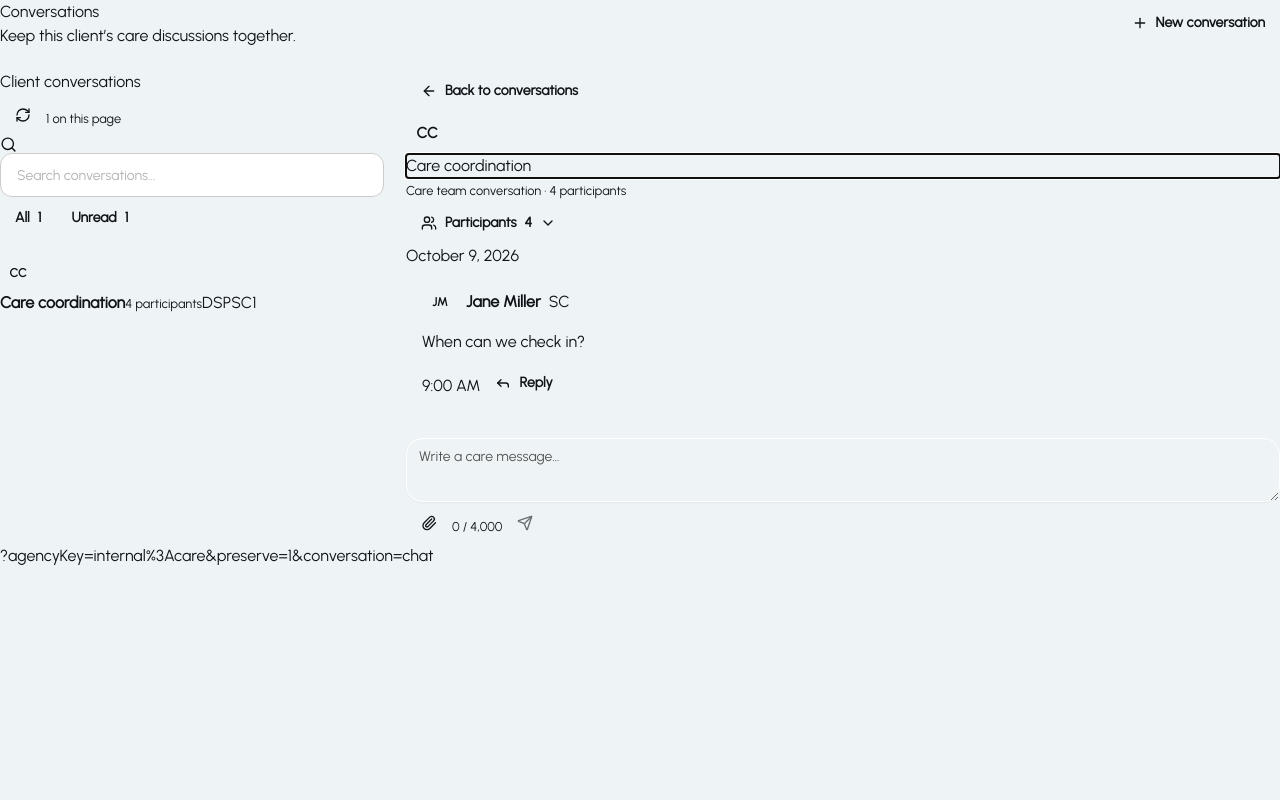
Scenario: shows only provided care roles in conversation summaries, participant rows and sender labels
The image size is (1280, 800).
Check: the text "DSP" is shown, box [202,293,231,312]
Check: the text "SC" is shown once, box [231,293,252,312]
Click the button with aria-label "View 4 conversation participants" at (489, 223), box [406,202,571,244]
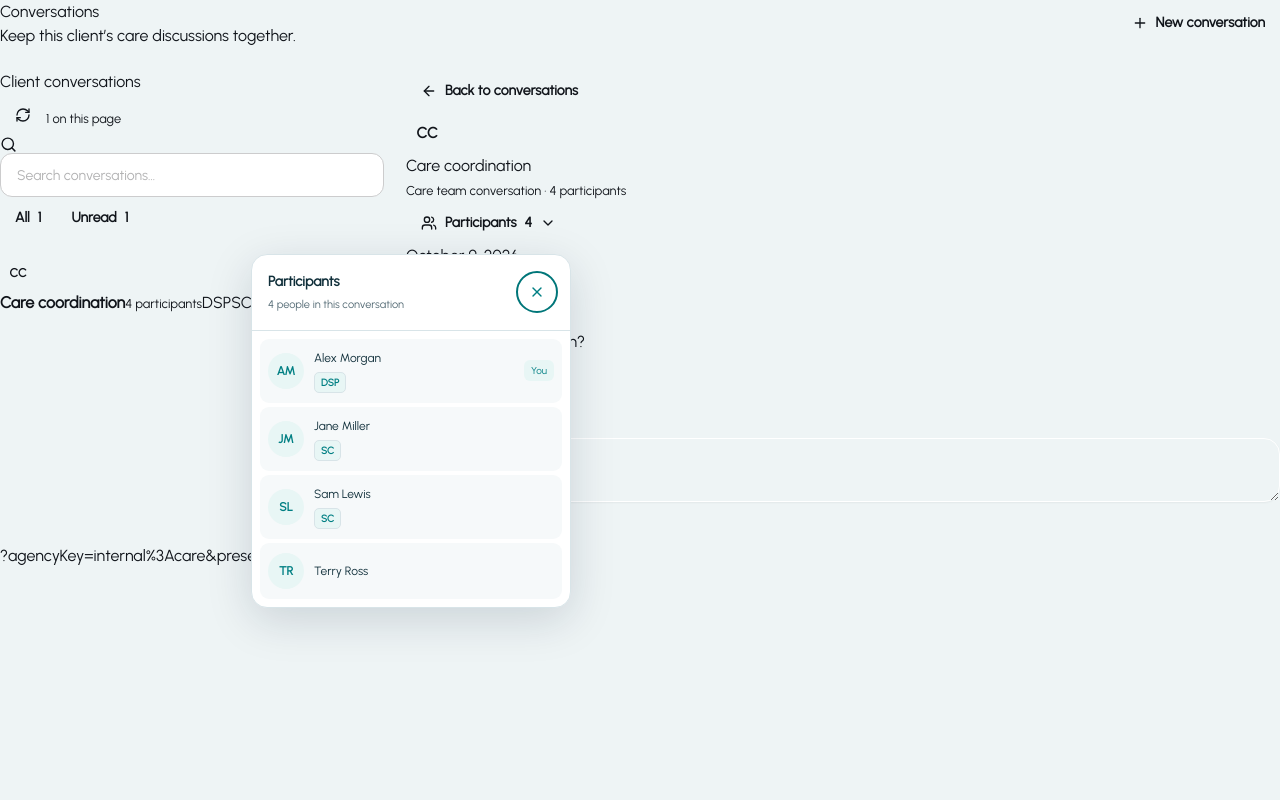
Check: the text "DSP" below "Alex Morgan" is shown, box [321,376,339,389]
Check: the 2nd text "SC" is shown, box [314,440,341,461]
